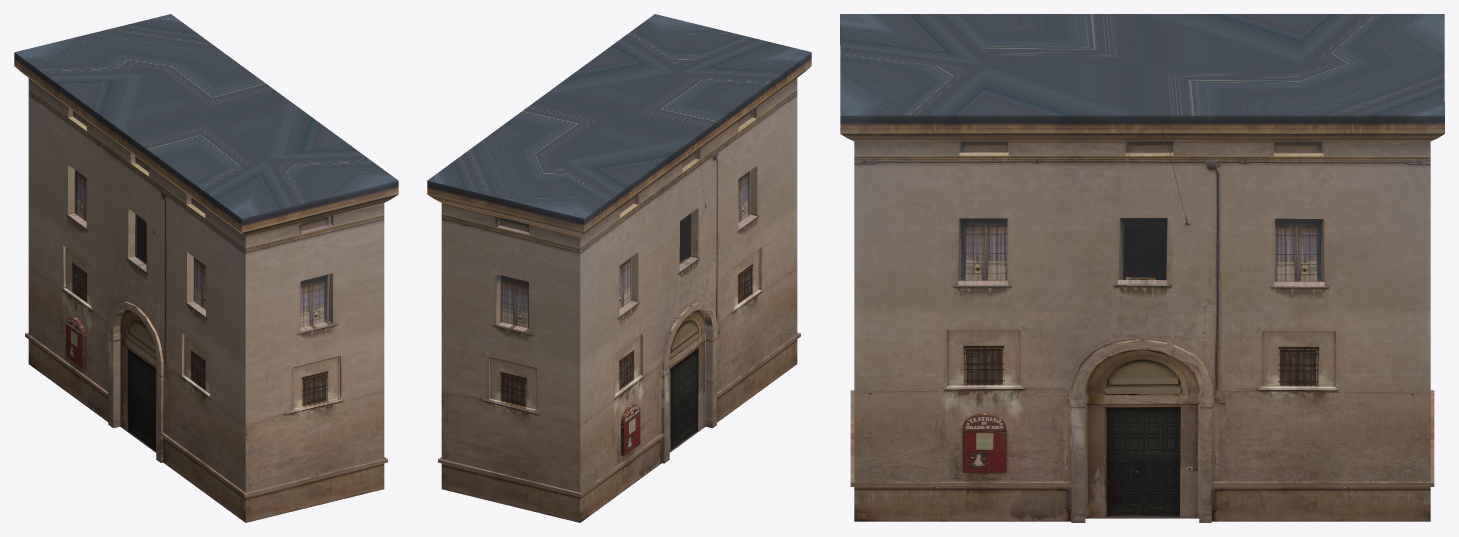
The model's file is building.obj.
3 renders of one model, left to right at view 1: azimuth 30°, elevation 25°; view 2: azimuth 150°, elevation 25°; view 3: azimuth 270°, elevation 25°, orthographic. The views are drawn at different scales.
Visible parts, largest first — view 1: Object_texture_building_building_12.jpg; view 2: Object_texture_building_building_12.jpg; view 3: Object_texture_building_building_12.jpg.
Part boxes in pixels (box(x1,y1,x2,y2)): Object_texture_building_building_12.jpg: box(14, 14, 398, 522); Object_texture_building_building_12.jpg: box(427, 14, 811, 522); Object_texture_building_building_12.jpg: box(840, 14, 1444, 522).
Bounding box in the file's own units: 0.9933 × 1.88 × 2.5.
1 material, 1 textured.
